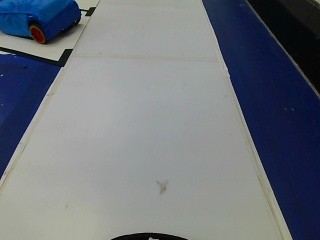car: (0, 0, 84, 47)
